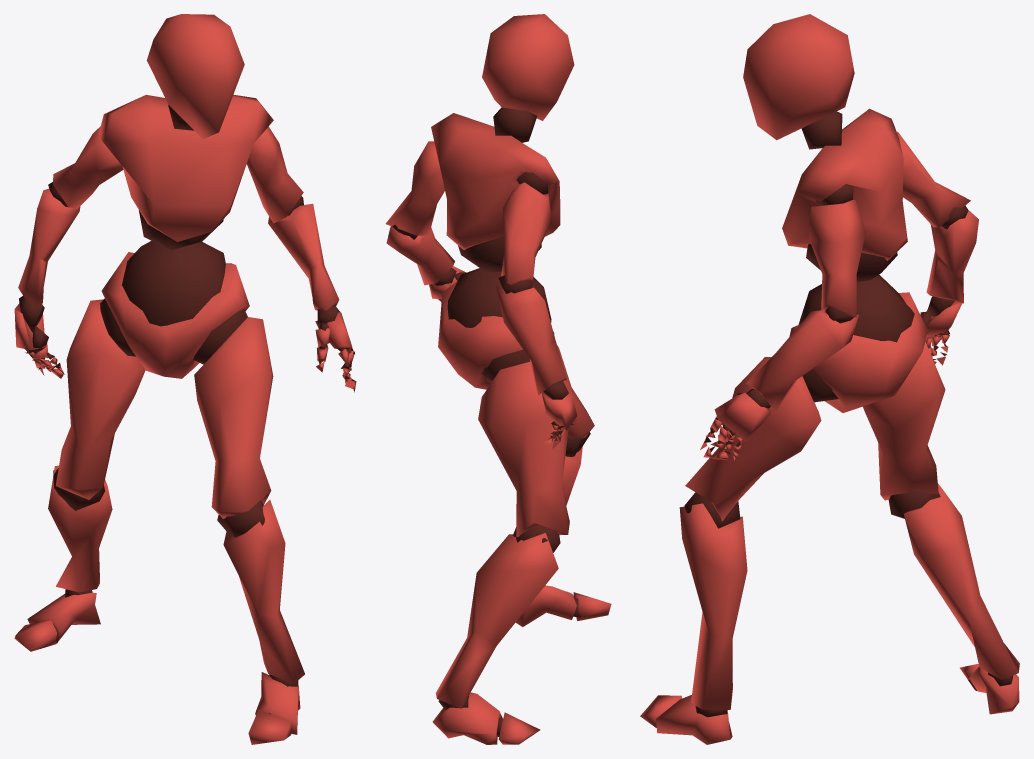
3 views of the same model, side by side, from view 1: azimuth 30°, elevation 25°; view 2: azimuth 150°, elevation 25°; view 3: azimuth 270°, elevation 25° (orthographic). The views are drawn at different scales.
Visible parts, largest first — view 1: Beta_Surface; view 2: Beta_Surface; view 3: Beta_Surface.
Part boxes in pixels (left/top/right/bottom): Beta_Surface: left=14, top=14, right=356, bottom=744; Beta_Surface: left=385, top=14, right=611, bottom=744; Beta_Surface: left=640, top=14, right=1019, bottom=744.
Bounding box in the file's own units: 5.42 × 14.65 × 7.2.
